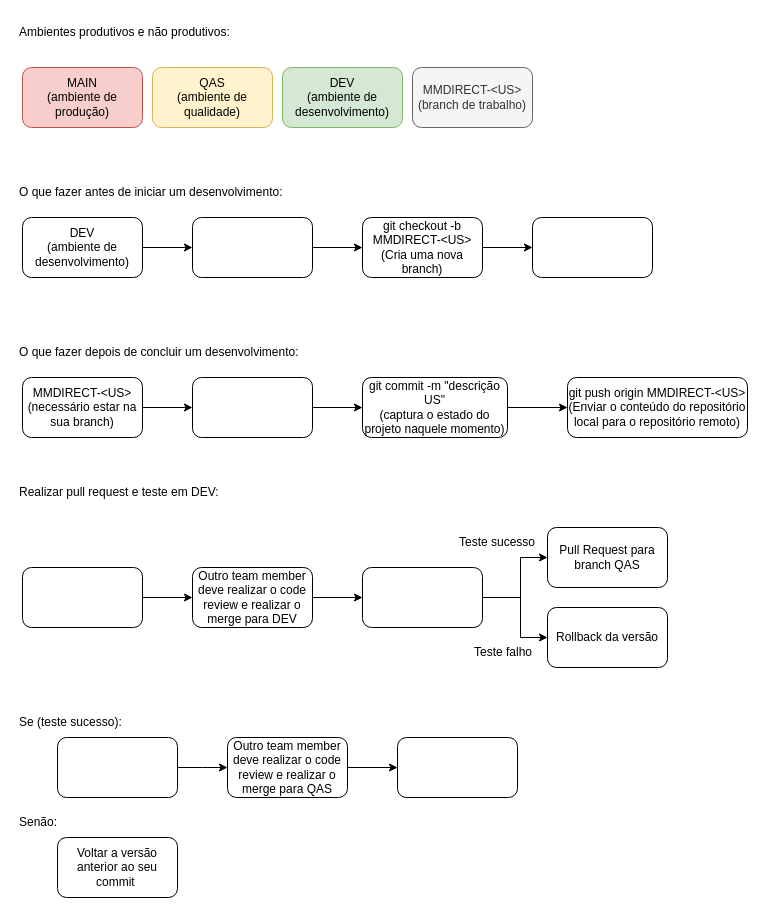
The diagram is 765 pixels wide and 915 high, and some of its shapes have lost their labels. The shapes that lost their labels are listed below. From the top down, each one's centre as x and y in pixels, then its label:
the point at 252,247: git pull origin dev (Atualiza a versão de dev no seu repositório local)
the point at 592,247: Neste ponto inicia-se o desenvolvimento da solução em questão.
the point at 252,407: git add . (Adiciona uma alteração no diretório ativo)
the point at 82,597: Realizar um Pull Request da sua branch para DEV
the point at 422,597: Testar a solução em DEV
the point at 117,767: Realizar Pull Request para branch QAS
the point at 457,767: Business deve testar a solução em QAS
